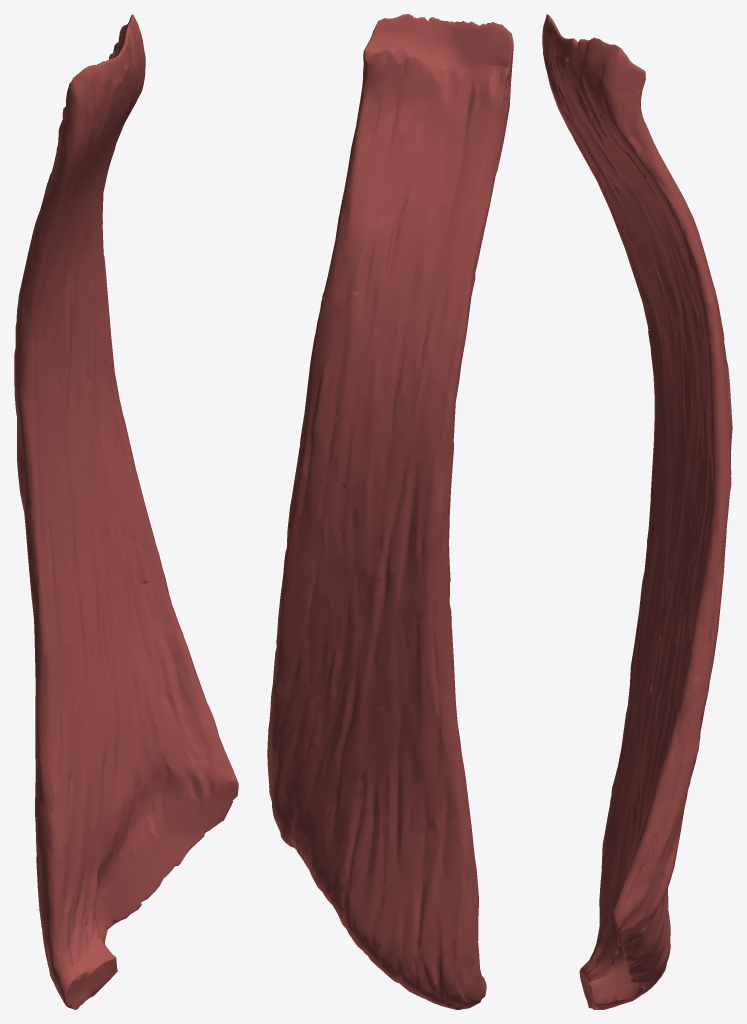
File: FMA13347.glb
3 renders of one model, left to right at view 1: azimuth 30°, elevation 25°; view 2: azimuth 150°, elevation 25°; view 3: azimuth 270°, elevation 25°, orthographic. The views are drawn at different scales.
Visible parts, largest first — view 1: FMA13347; view 2: FMA13347; view 3: FMA13347.
Part boxes in pixels (left/top/right/bottom): FMA13347: left=14, top=14, right=238, bottom=1009; FMA13347: left=267, top=14, right=513, bottom=1009; FMA13347: left=542, top=14, right=732, bottom=1009.
Size of the model in its own units: 0.0231 by 0.1046 by 0.0181.
